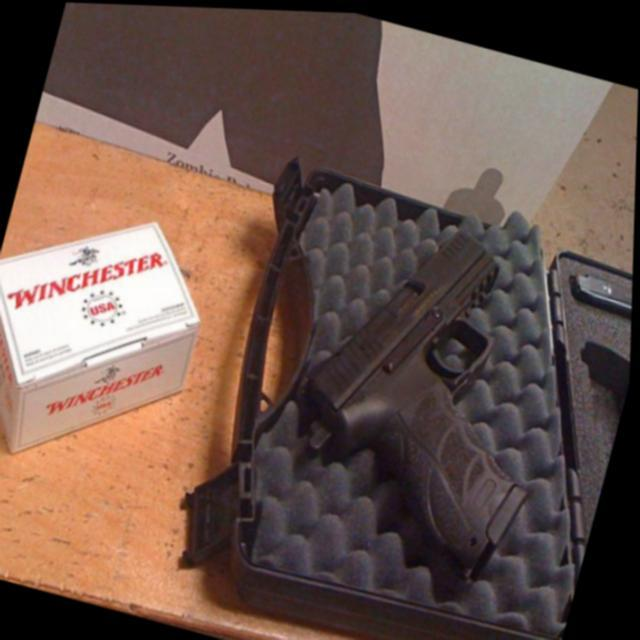weapon: (270, 192, 592, 585)
